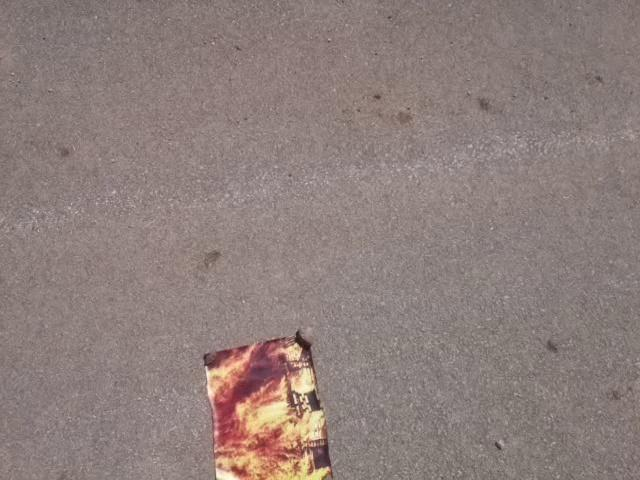fire-poster: (200, 328, 335, 479)
